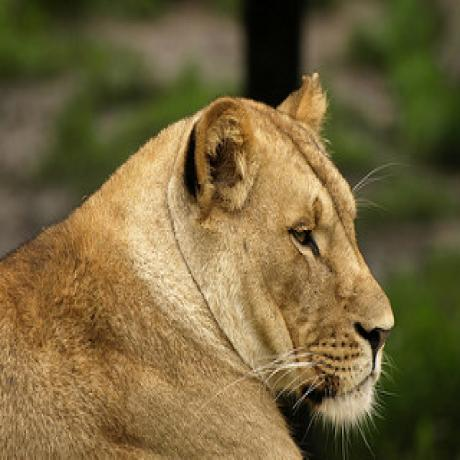Lion: (0, 69, 395, 460)
